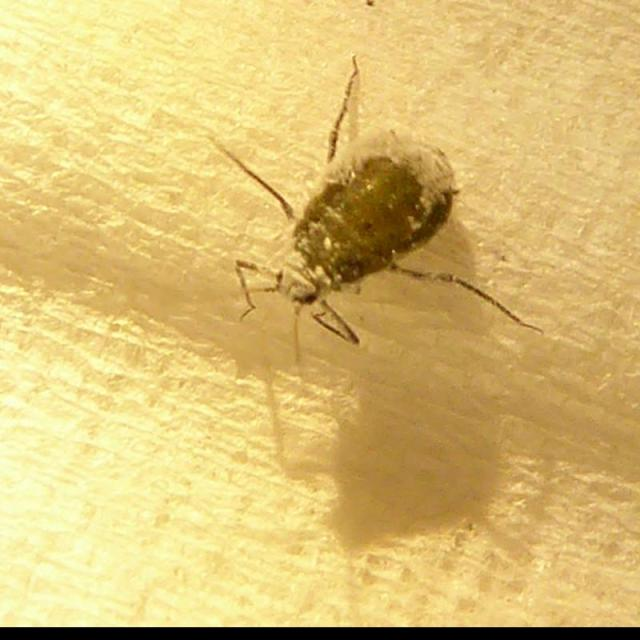Aphids: (238, 110, 493, 352)
